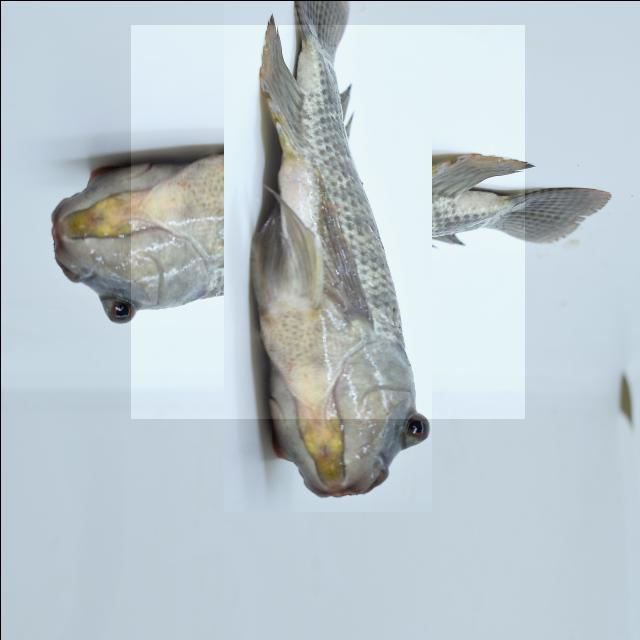Columnaris Disease: (130, 24, 524, 418)
